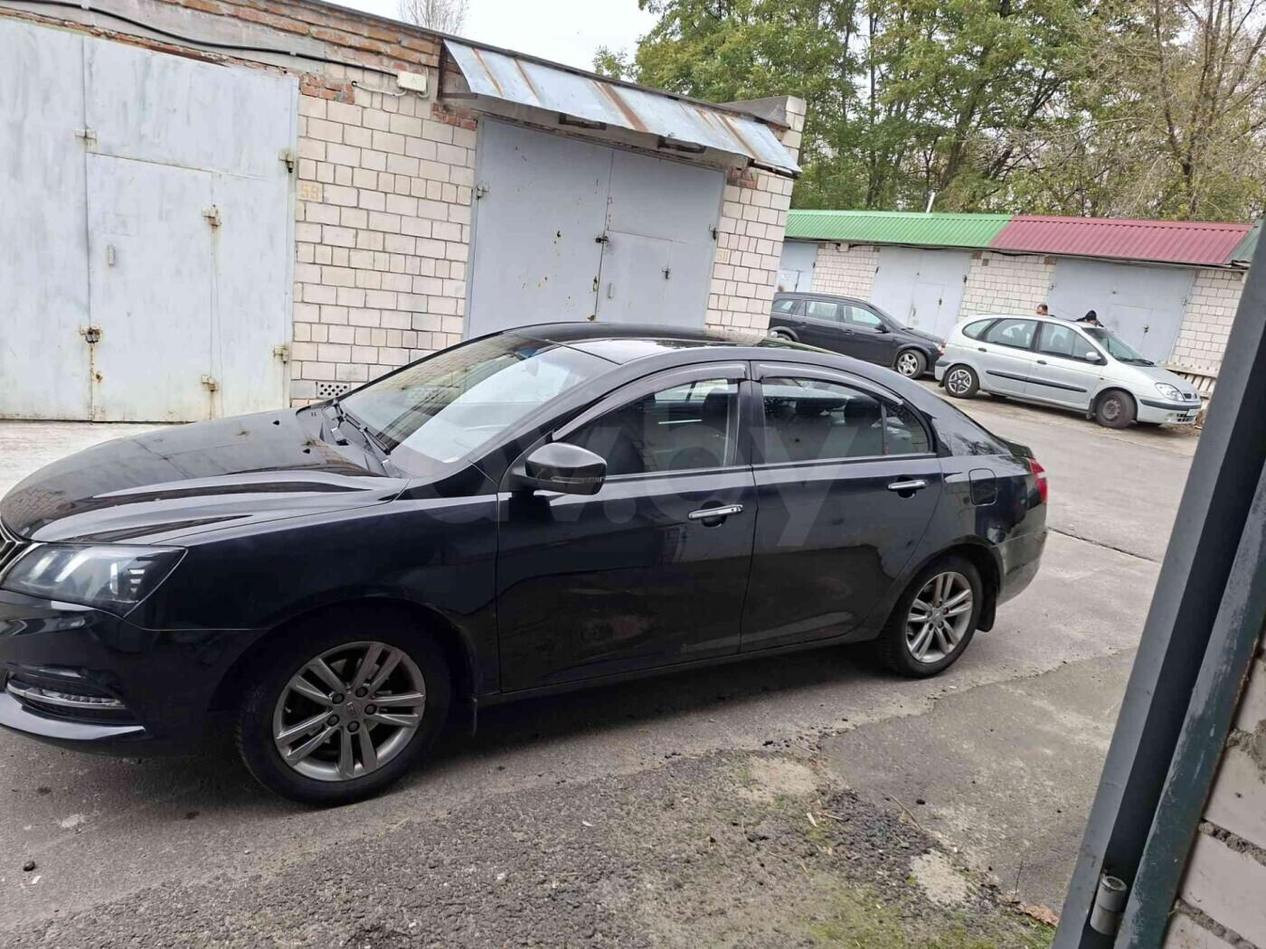Emgrand_2019-2021: (0, 323, 1048, 804)
